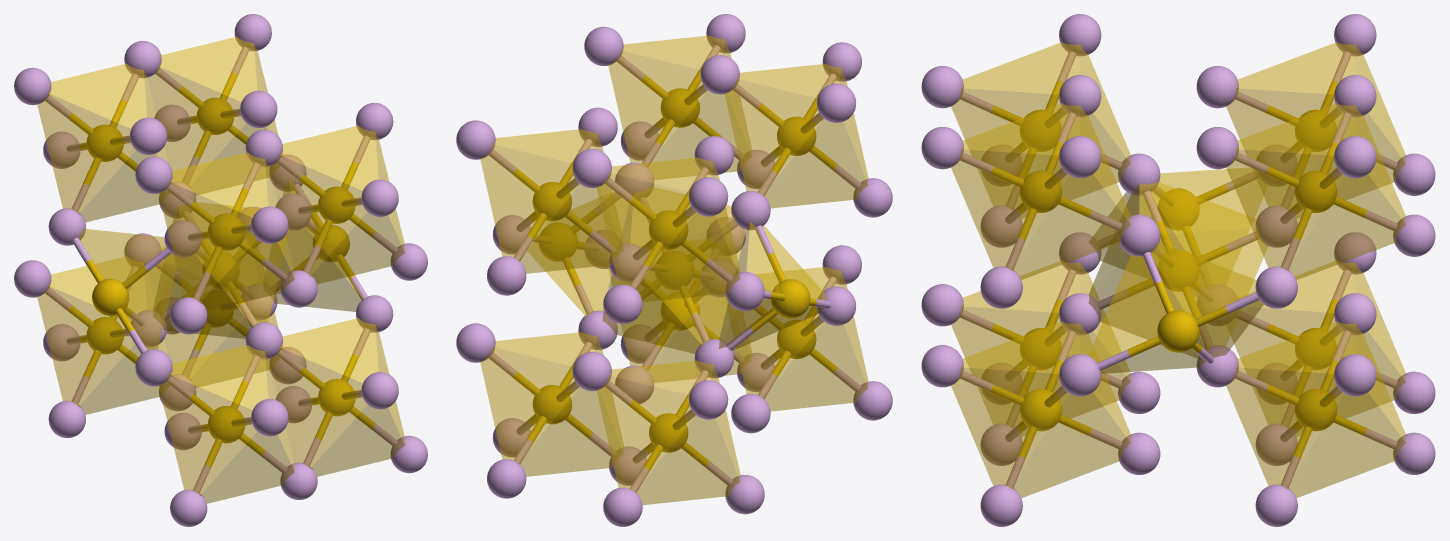
File: crystal_toolkit_scene.glb
3 renders of one model, left to right at view 1: azimuth 30°, elevation 25°; view 2: azimuth 150°, elevation 25°; view 3: azimuth 270°, elevation 25°, orthographic. The views are drawn at different scales.
Visible parts, largest first — view 1: polyhedra, atoms, bonds; view 2: polyhedra, atoms, bonds; view 3: polyhedra, atoms, bonds.
Part boxes in pixels (box(x1,y1,x2,y2)): polyhedra: box(37, 37, 404, 503); atoms: box(14, 14, 427, 526); bonds: box(45, 46, 397, 492); polyhedra: box(480, 35, 868, 504); atoms: box(456, 14, 892, 526); bonds: box(489, 45, 860, 492); polyhedra: box(951, 42, 1405, 497); atoms: box(921, 14, 1435, 526); bonds: box(960, 51, 1397, 487).
Bounding box in the file's own units: 7.8 × 10.07 × 12.12.
